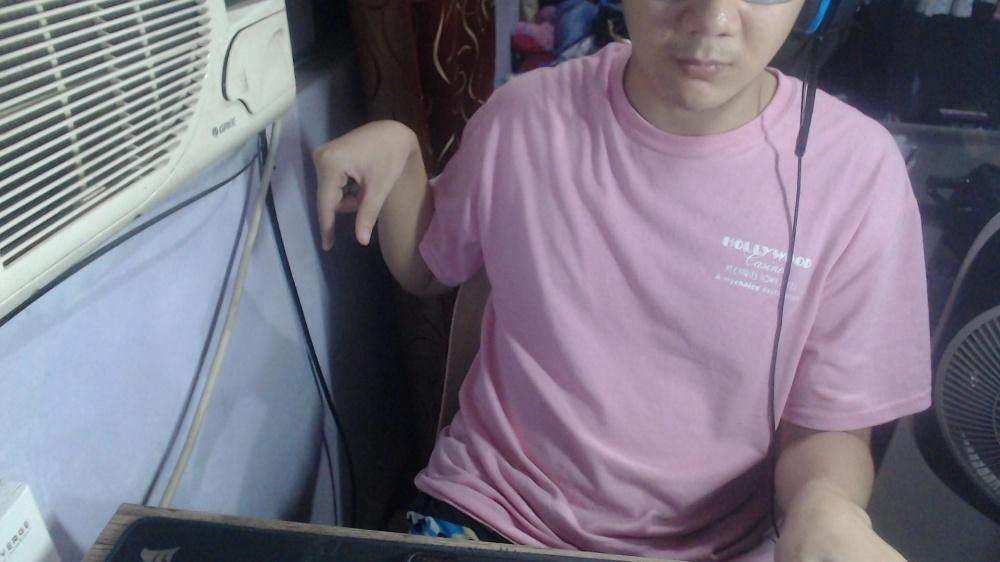q: (311, 117, 420, 252)
